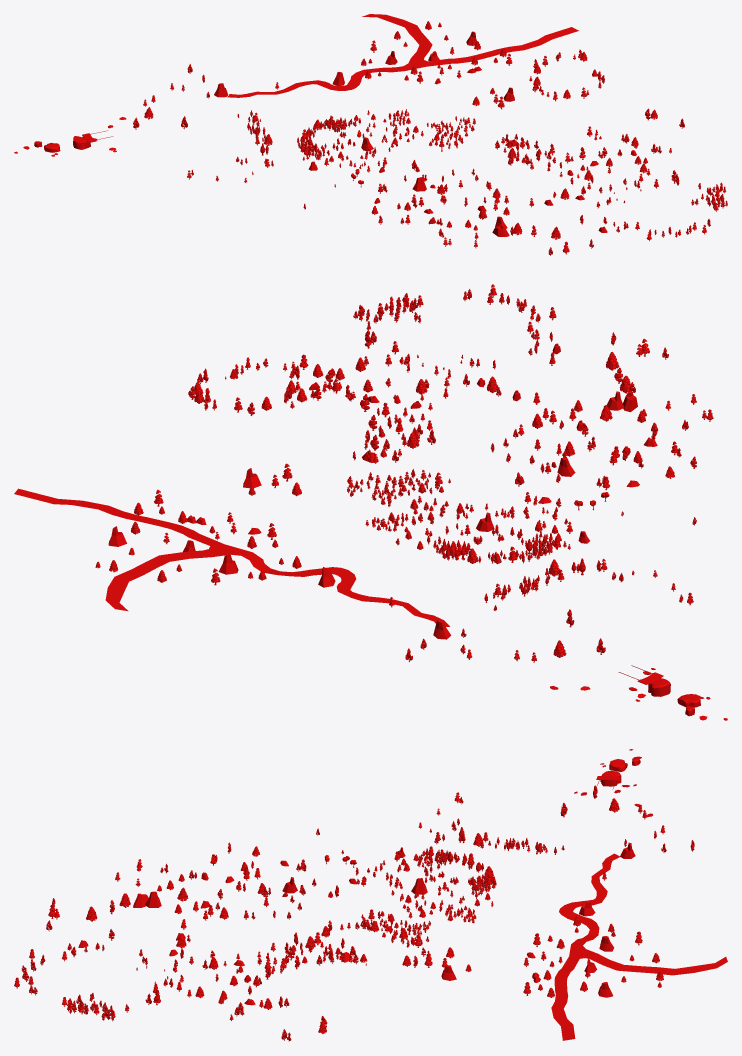
The model's file is Berg_FillerAssets_03.glb.
3 views of the same model, one above another, from view 1: azimuth 30°, elevation 25°; view 2: azimuth 150°, elevation 25°; view 3: azimuth 270°, elevation 25° (orthographic). The views are drawn at different scales.
Parts seen in each view (by area): view 1: BeverlyChillsRoad_03; view 2: BeverlyChillsRoad_03; view 3: BeverlyChillsRoad_03.
Boxes of the visible parts, bbox=[...] form: BeverlyChillsRoad_03: bbox=[227, 14, 578, 97]; BeverlyChillsRoad_03: bbox=[14, 488, 449, 626]; BeverlyChillsRoad_03: bbox=[551, 853, 727, 1040].
Bounding box in the file's own units: 337 × 34.46 × 331.
